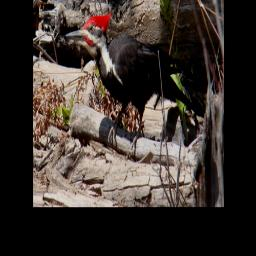Woodpecker: (63, 11, 204, 156)
